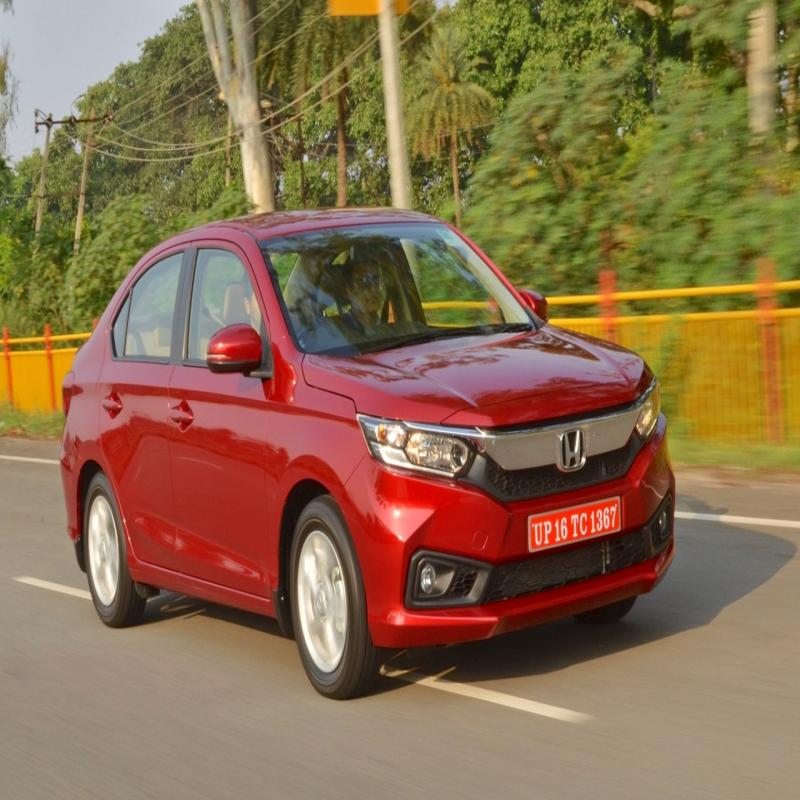car: (62, 202, 685, 692)
